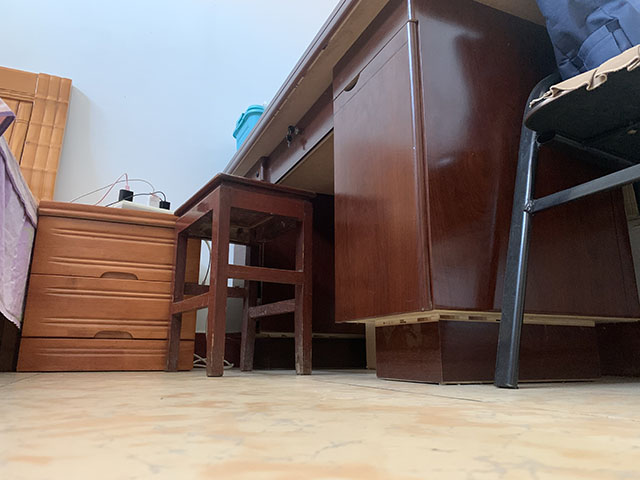cabinet: (13, 199, 204, 373)
stool: (493, 42, 640, 391), (166, 172, 318, 376)
table: (222, 1, 640, 386)
wire: (191, 352, 234, 370)
